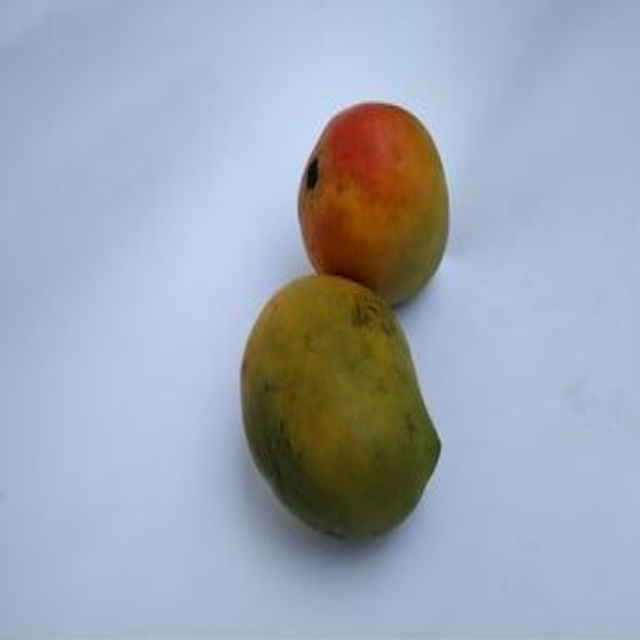mango: (237, 273, 463, 544), (297, 101, 455, 304)
